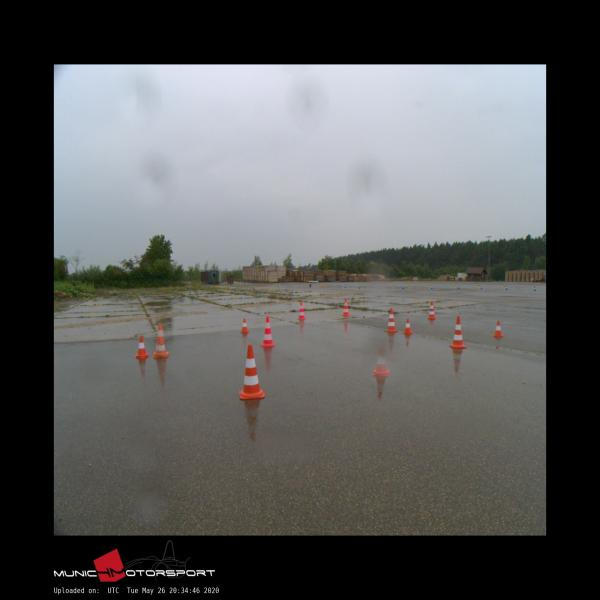large_orange_cone: (238, 344, 264, 399), (153, 322, 169, 356), (450, 316, 465, 347), (260, 316, 275, 347), (385, 308, 397, 332), (428, 301, 436, 318), (342, 299, 350, 316), (298, 302, 305, 318)
orange_cone: (372, 347, 390, 375), (135, 336, 150, 358), (492, 320, 503, 337), (403, 318, 412, 334), (240, 318, 249, 332)
